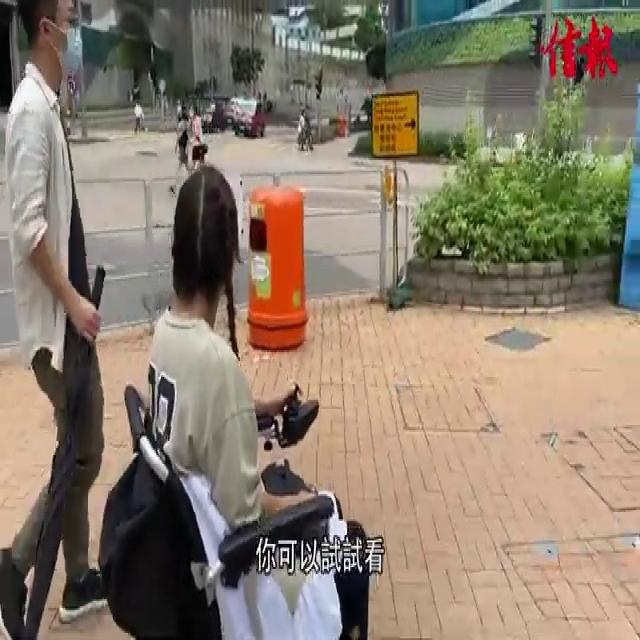wheelchairs: (89, 345, 395, 640)
